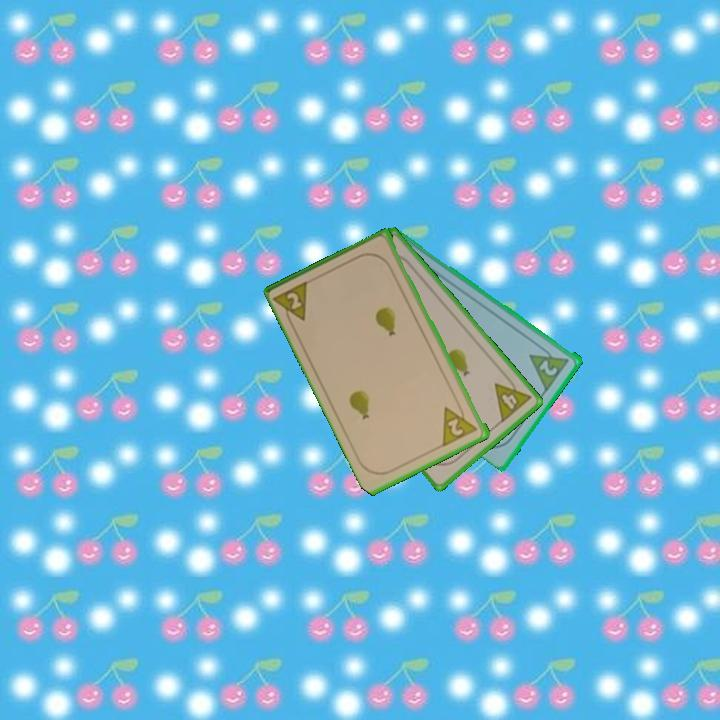2p: (526, 340, 572, 393), (439, 398, 481, 449), (272, 277, 313, 329)
4p: (491, 371, 535, 425)
